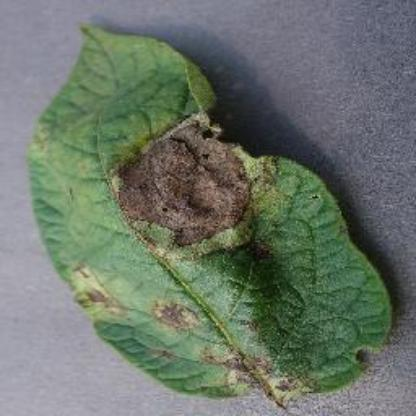Late-Blight: (27, 21, 399, 407)
